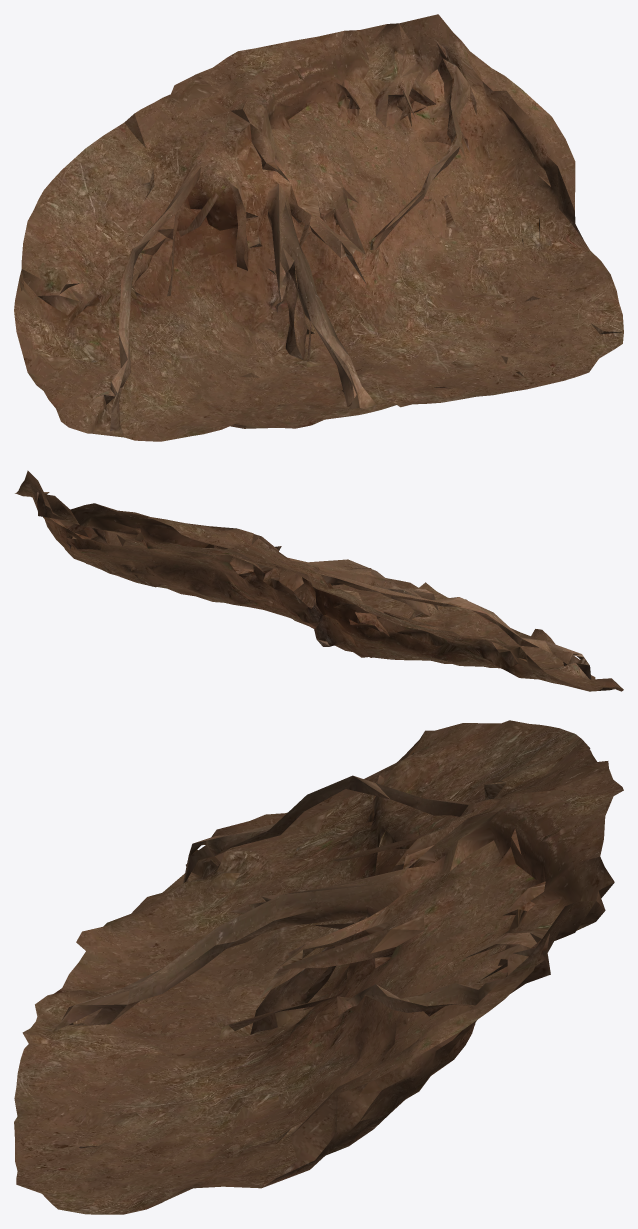
File: earth_roots_a.glb
3 renders of one model, top to bottom at view 1: azimuth 30°, elevation 25°; view 2: azimuth 150°, elevation 25°; view 3: azimuth 270°, elevation 25°, orthographic. The views are drawn at different scales.
Visible parts, largest first — view 1: earth_roots_a; view 2: earth_roots_a; view 3: earth_roots_a.
Boxes of the visible parts, box(x1,y1,x2,y2) form: earth_roots_a: box(14, 14, 623, 441); earth_roots_a: box(15, 470, 623, 691); earth_roots_a: box(14, 720, 623, 1214).
Bounding box in the file's own units: 4.12 × 1.5 × 2.68.
Materials: 1 (1 with a texture image).
